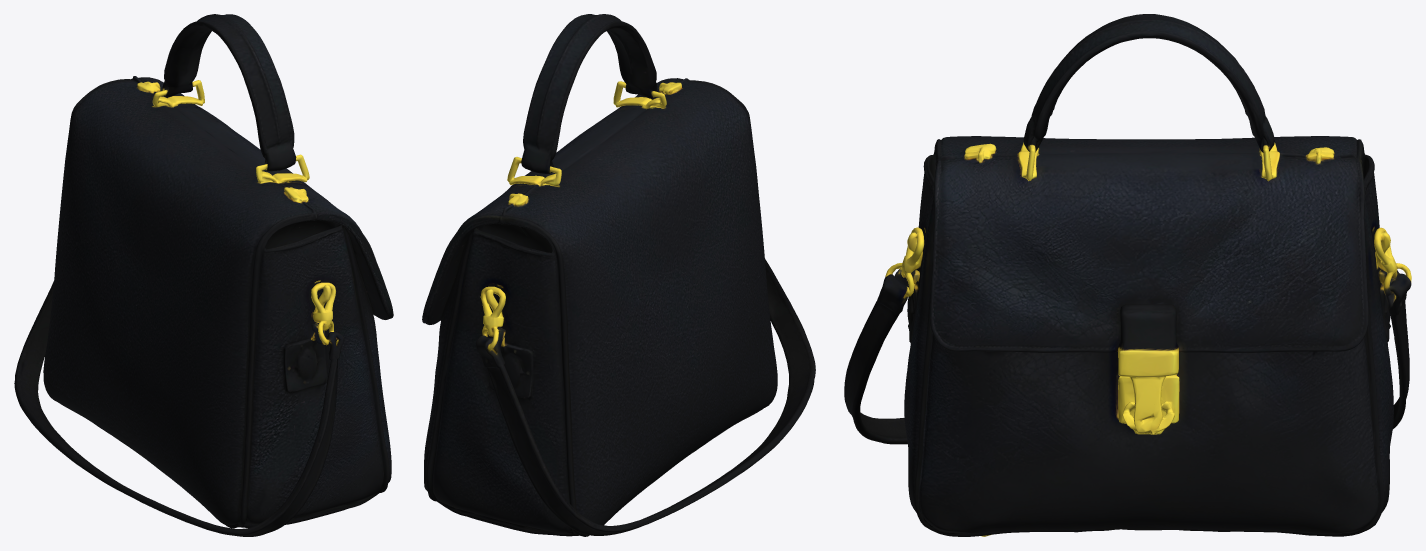
Rendered from handbag-satchel.glb.
3 renders of one model, left to right at view 1: azimuth 30°, elevation 25°; view 2: azimuth 150°, elevation 25°; view 3: azimuth 270°, elevation 25°, orthographic. The views are drawn at different scales.
Parts seen in each view (by area): view 1: tripo_node_01a217dc-0517-7f14-806f-de26ed88aaa9; view 2: tripo_node_01a217dc-0517-7f14-806f-de26ed88aaa9; view 3: tripo_node_01a217dc-0517-7f14-806f-de26ed88aaa9.
Part boxes in pixels (x1=…): tripo_node_01a217dc-0517-7f14-806f-de26ed88aaa9: x1=14, y1=14, x2=393, y2=536; tripo_node_01a217dc-0517-7f14-806f-de26ed88aaa9: x1=422, y1=14, x2=815, y2=536; tripo_node_01a217dc-0517-7f14-806f-de26ed88aaa9: x1=844, y1=14, x2=1411, y2=536.
Bounding box in the file's own units: 0.5998 × 0.9592 × 1.
Materials: 1 (1 with a texture image).
